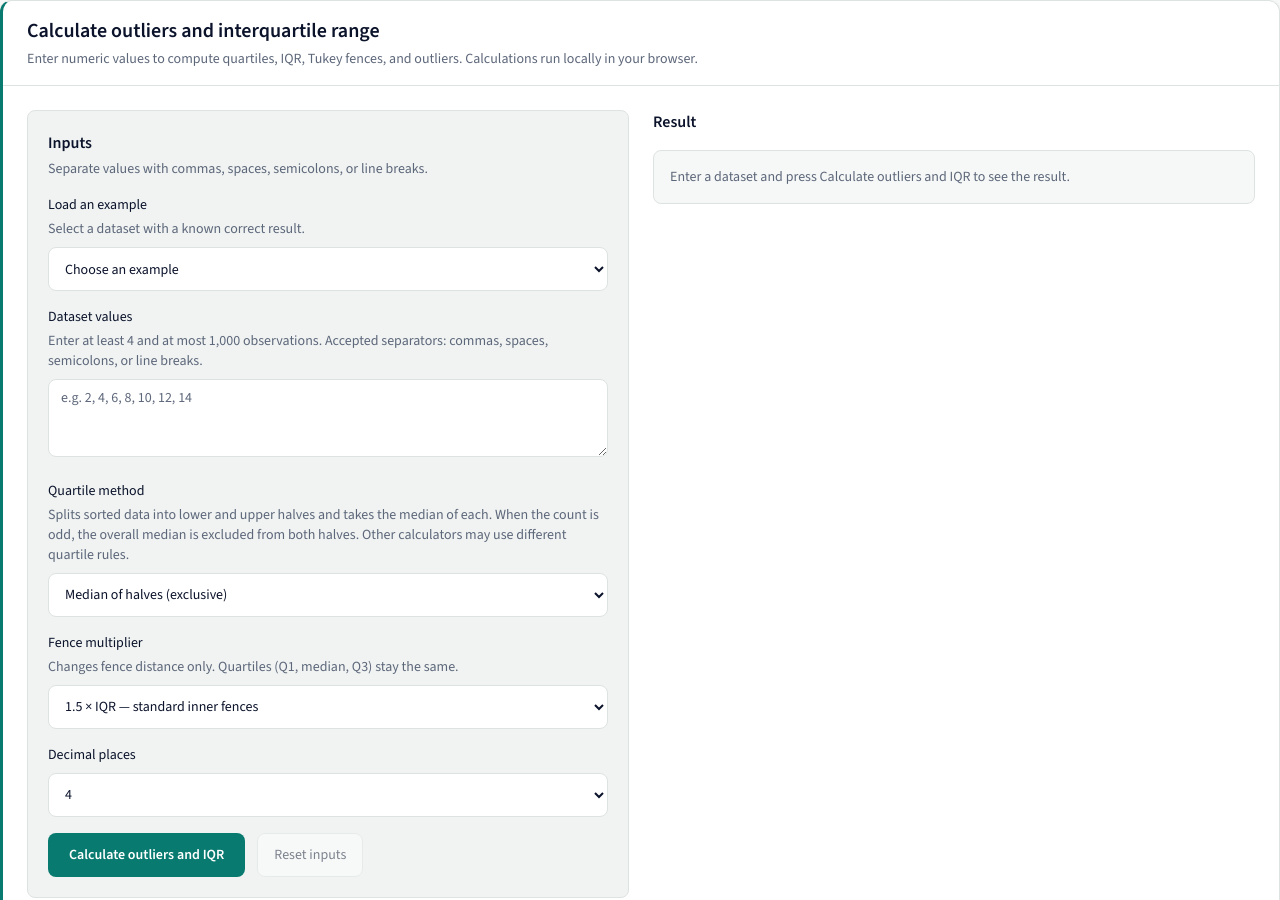
Scenario: OutlierIqrCalculator calculation workflow › calculates with a 3.0× fence multiplier
Select "3.0 × IQR — wider outer fences" in the dropdown labelled "Fence multiplier" at (328, 707), box 48,685 -> 608,729
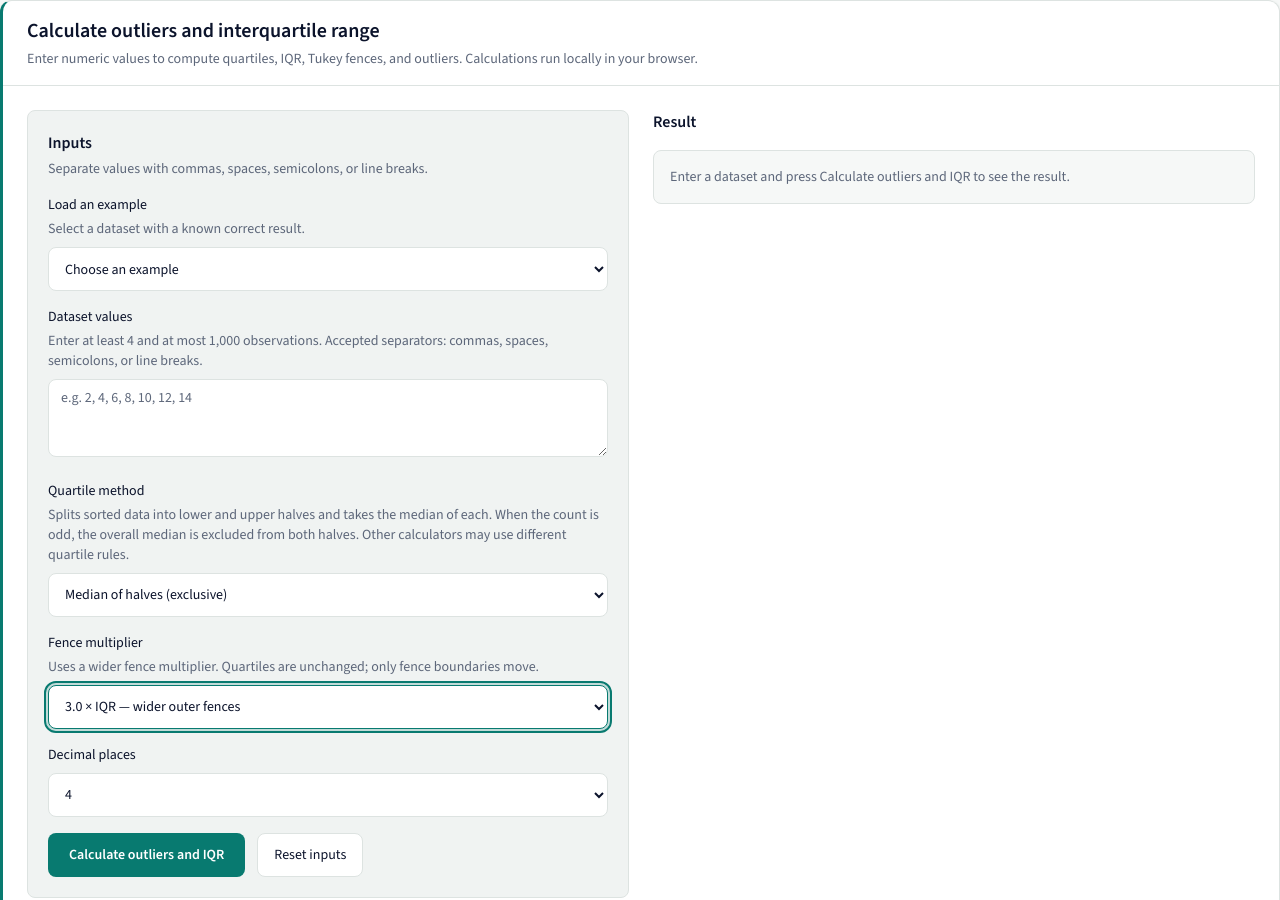
Type "1, 2, 3, 4, 5, 6, 7, 8, 9, 100" into the text box labelled "Dataset values".
click(328, 418); type("1, 2, 3, 4, 5, 6, 7, 8, 9, 100")  # box 48,379 -> 608,457
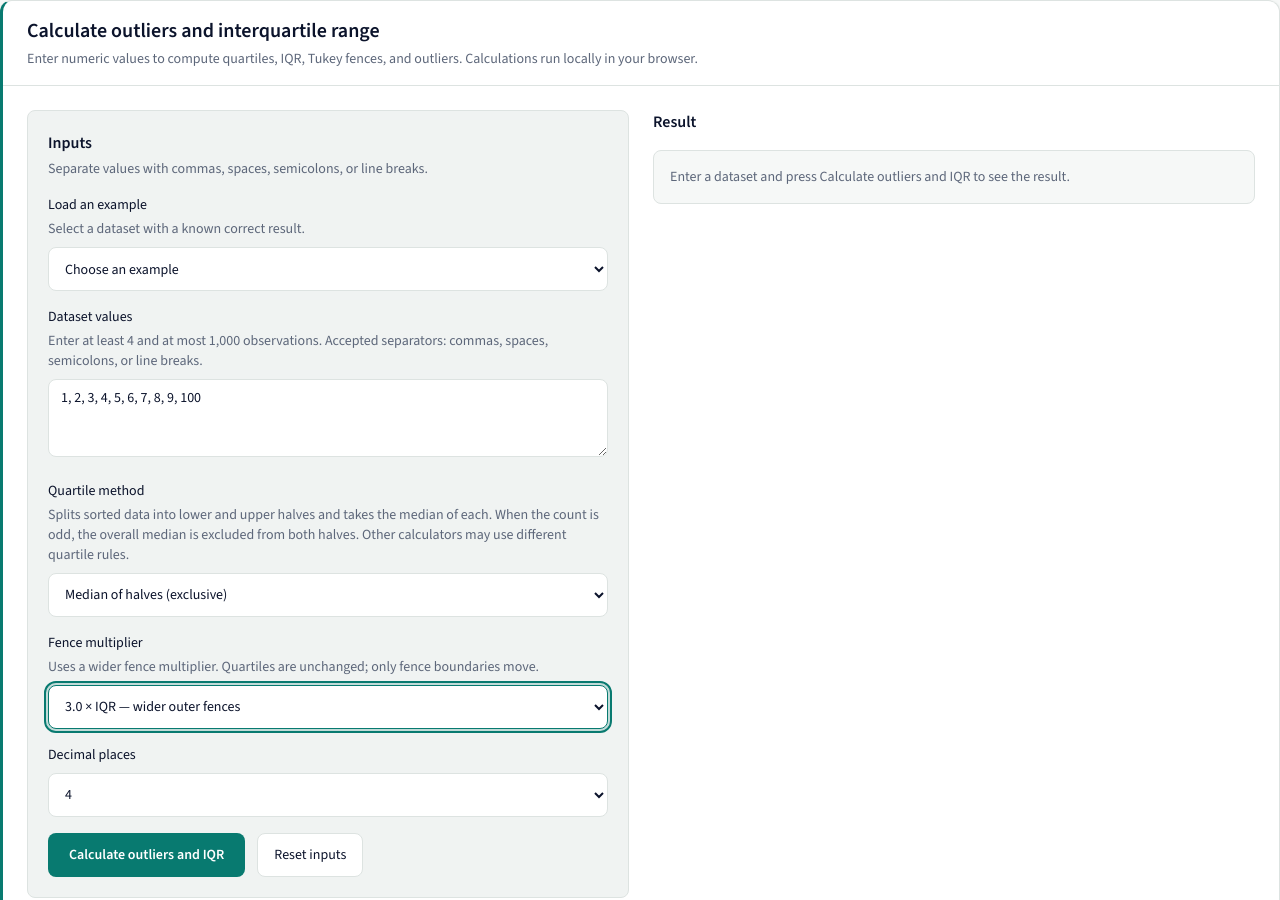
Click the button "Calculate outliers and IQR".
click(147, 855)  # box 48,833 -> 245,877
(page scrolled)
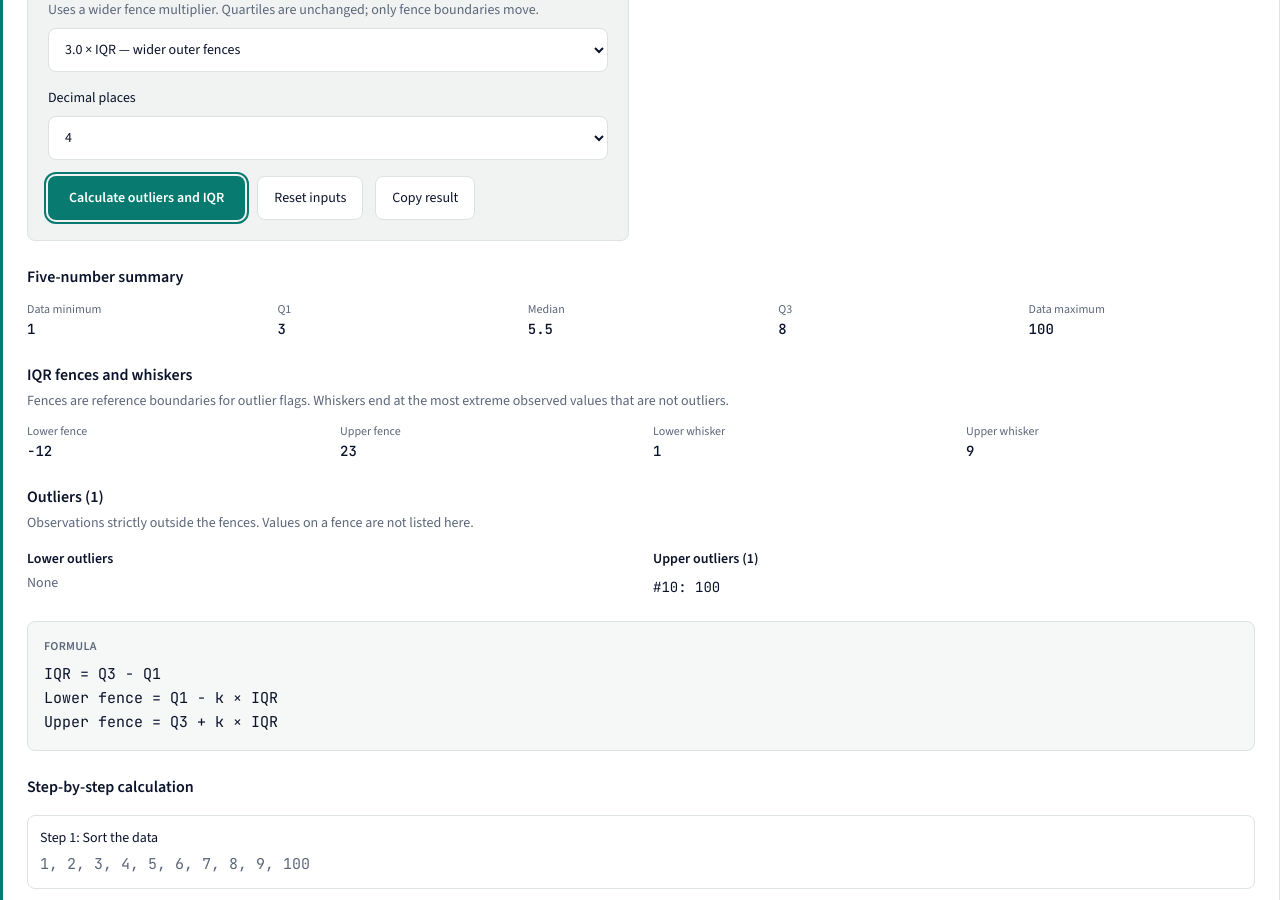
Expected: the heading "Outliers (1)" is shown, 27,486 -> 104,507
Expected: the text "-12" is shown, 27,442 -> 52,460
